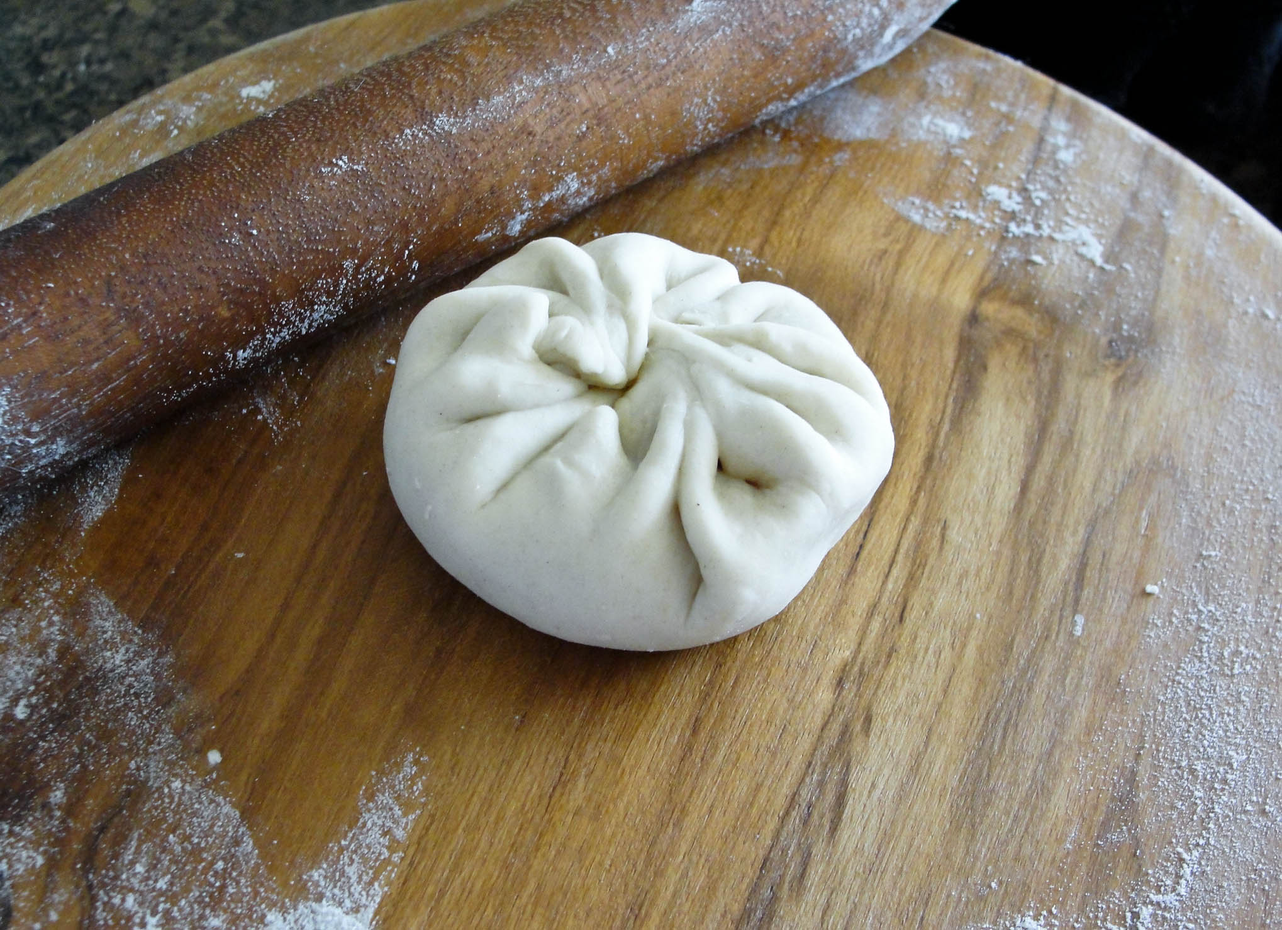momo: (371, 235, 900, 652)
